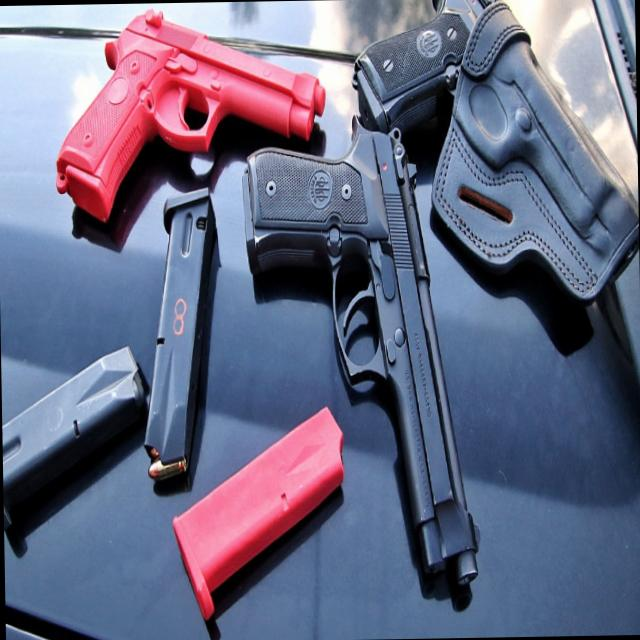Gun: (246, 104, 482, 595), (344, 0, 639, 276), (43, 0, 331, 225)
